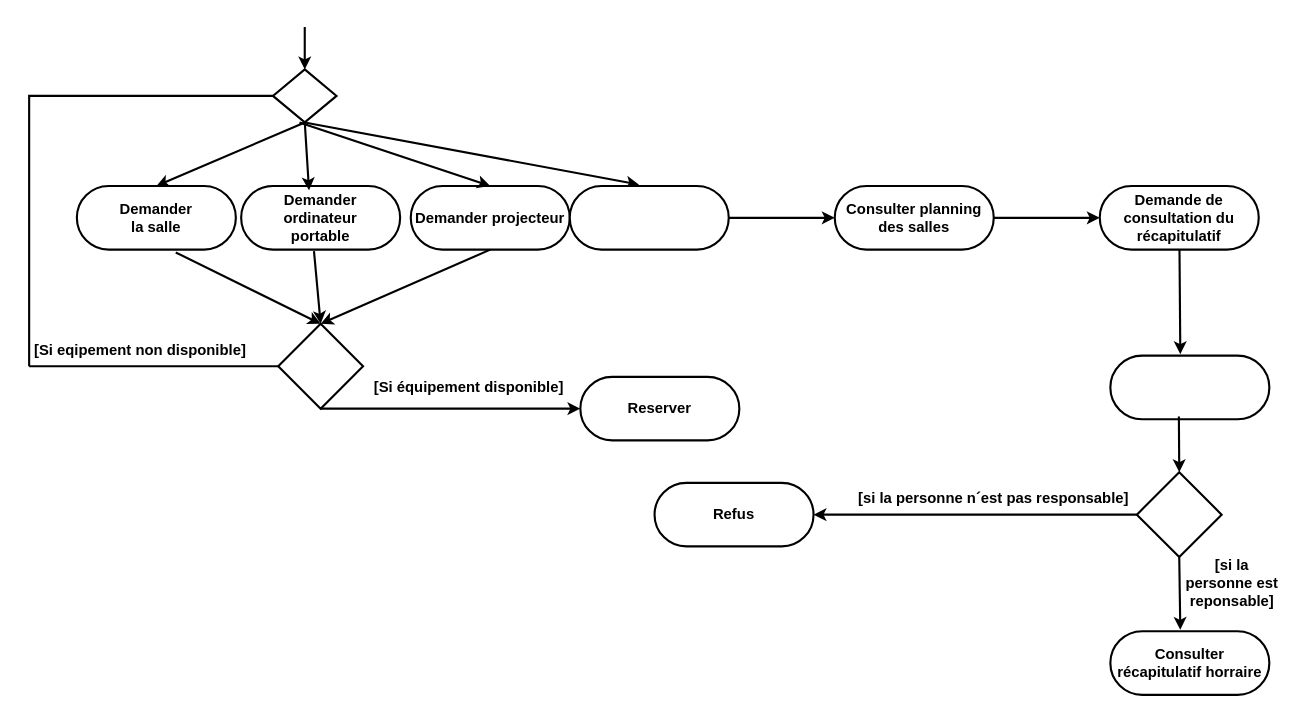
Image size: 1297x713. Some labels were removed from this diagram. The centre of each missing label's shape, as x and y in pixels:
"Authentification" goes at point (1189, 387).
"demande de consultation du planning des salles" goes at point (648, 217).
